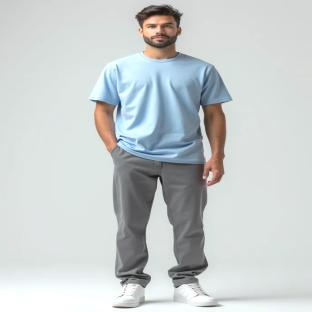Human: (89, 5, 232, 307)
